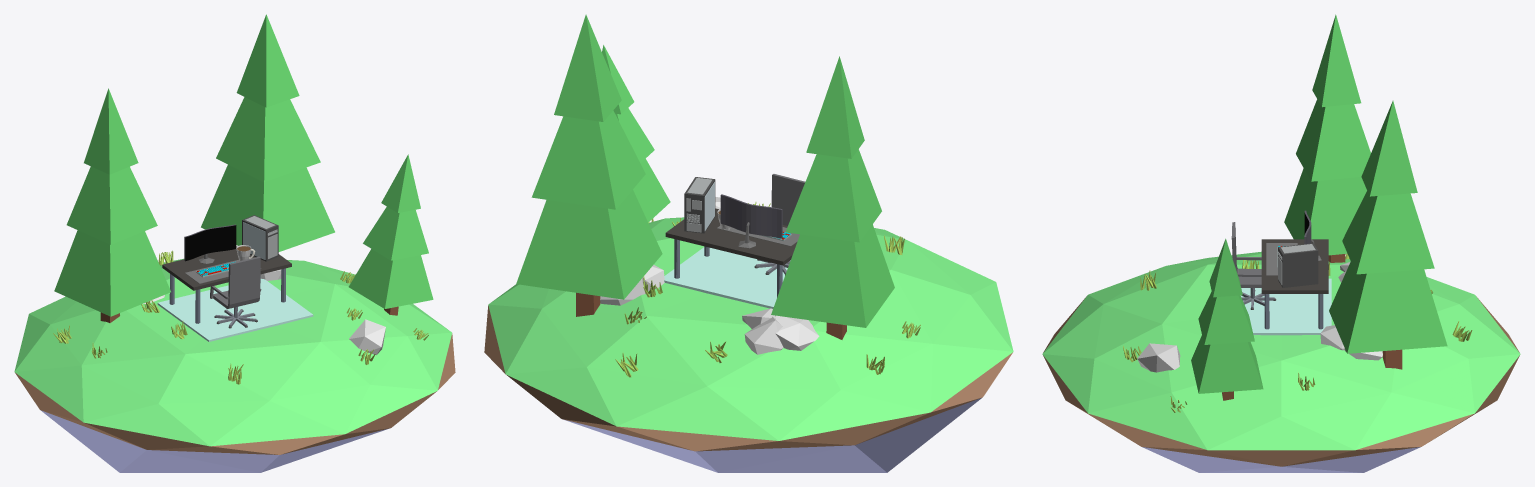
File: PCSetupIsland.gltf
3 renders of one model, left to right at view 1: azimuth 30°, elevation 25°; view 2: azimuth 150°, elevation 25°; view 3: azimuth 270°, elevation 25°, orthographic. The views are drawn at different scales.
Visible parts, largest first — view 1: Icosphere.003; view 2: Icosphere.003; view 3: Icosphere.003.
Boxes of the visible parts, box(x1,y1,x2,y2) form: Icosphere.003: box(14, 14, 455, 472); Icosphere.003: box(484, 14, 1013, 472); Icosphere.003: box(1042, 14, 1520, 472).
Bounding box in the file's own units: 1.95 × 1.89 × 2.01.
